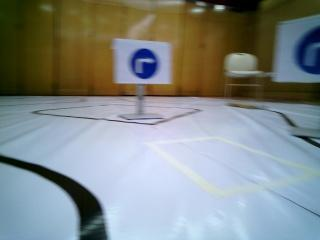right: (117, 41, 168, 80)
